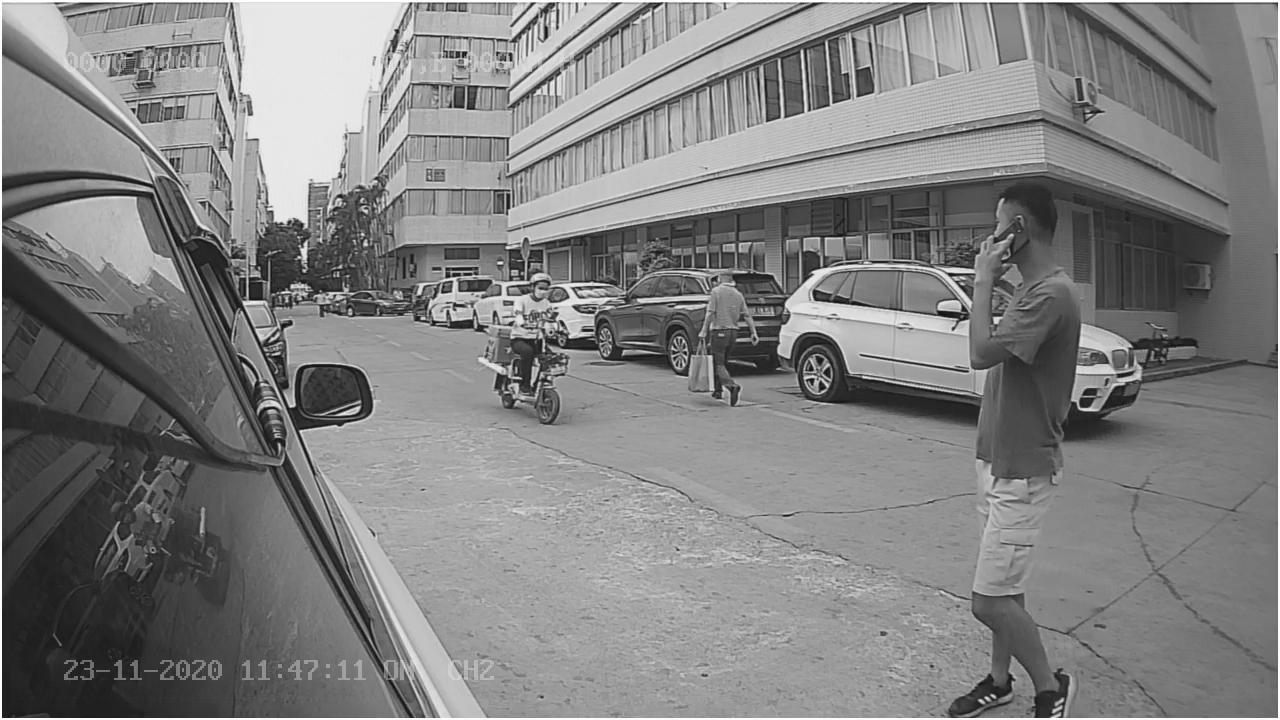person: (923, 183, 1100, 720)
